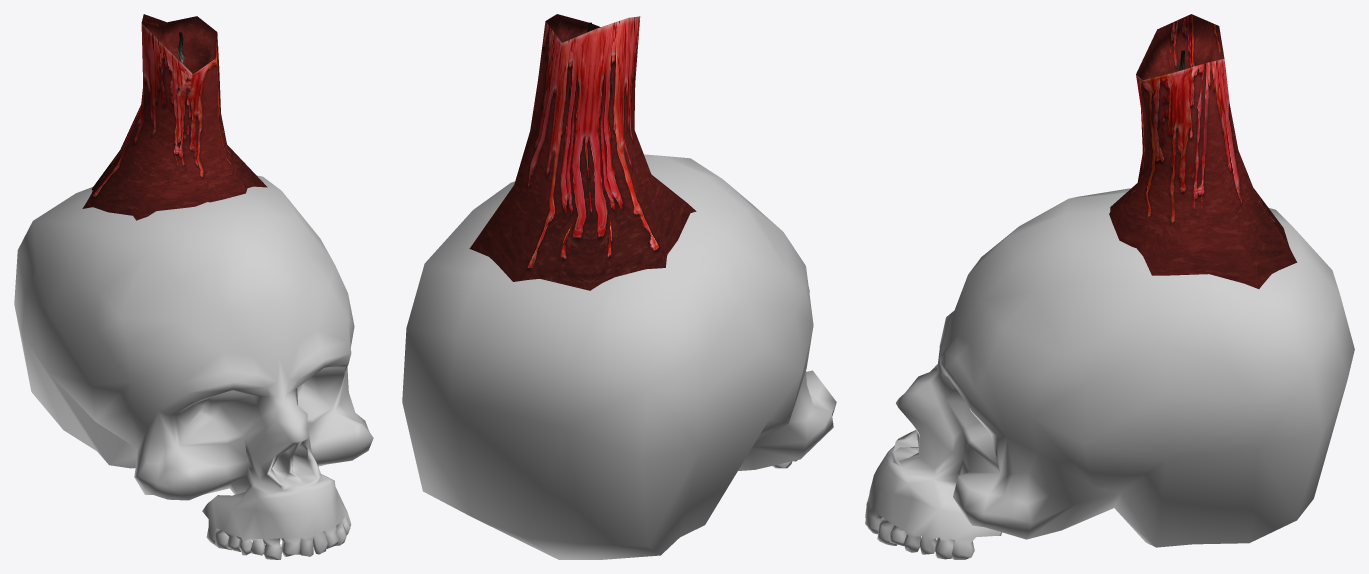
File: Skull_Candle.fbx
The picture shows the model from 3 angles, left to right: view 1: azimuth 30°, elevation 25°; view 2: azimuth 150°, elevation 25°; view 3: azimuth 270°, elevation 25°; orthographic projection. The views are drawn at different scales.
Visible parts, largest first — view 1: Skull_Candle; view 2: Skull_Candle; view 3: Skull_Candle.
Part boxes in pixels (x1,y1,x2,y2): Skull_Candle: (14, 14, 373, 559); Skull_Candle: (402, 14, 836, 559); Skull_Candle: (865, 14, 1354, 559).
Bounding box in the file's own units: 0.2378 × 0.372 × 0.3301.
